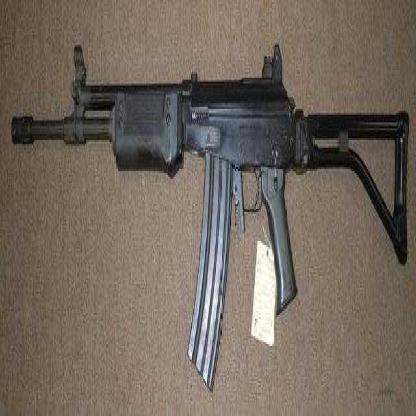rifle: (1, 27, 415, 408)
